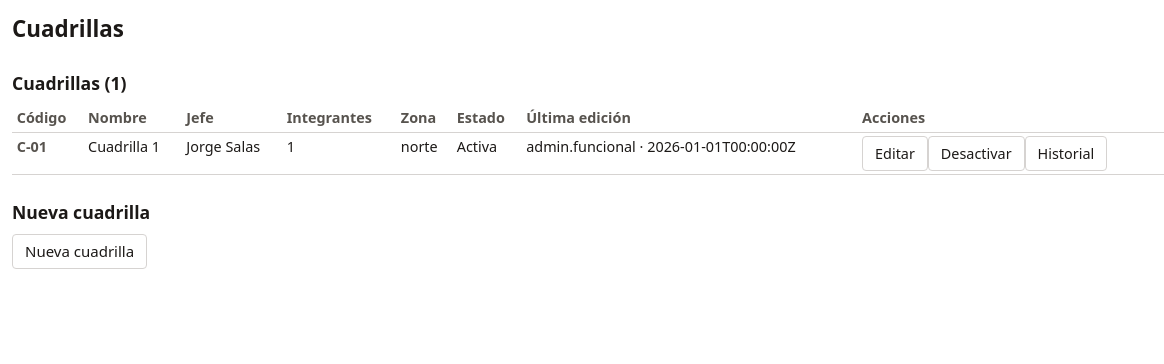
el historial › se pide solo al abrirlo, y lista los cambios
Click the button "Historial" at [1066, 154], box [1025,136,1107,171]
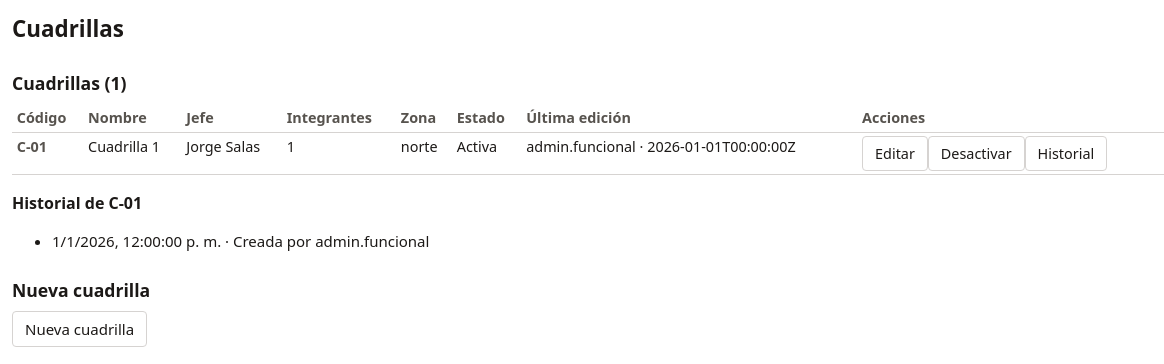
Check: the list item "1/1/2026, 12:00:00 p. m. · Creada por admin.funcional" is shown, box [52,231,429,251]
